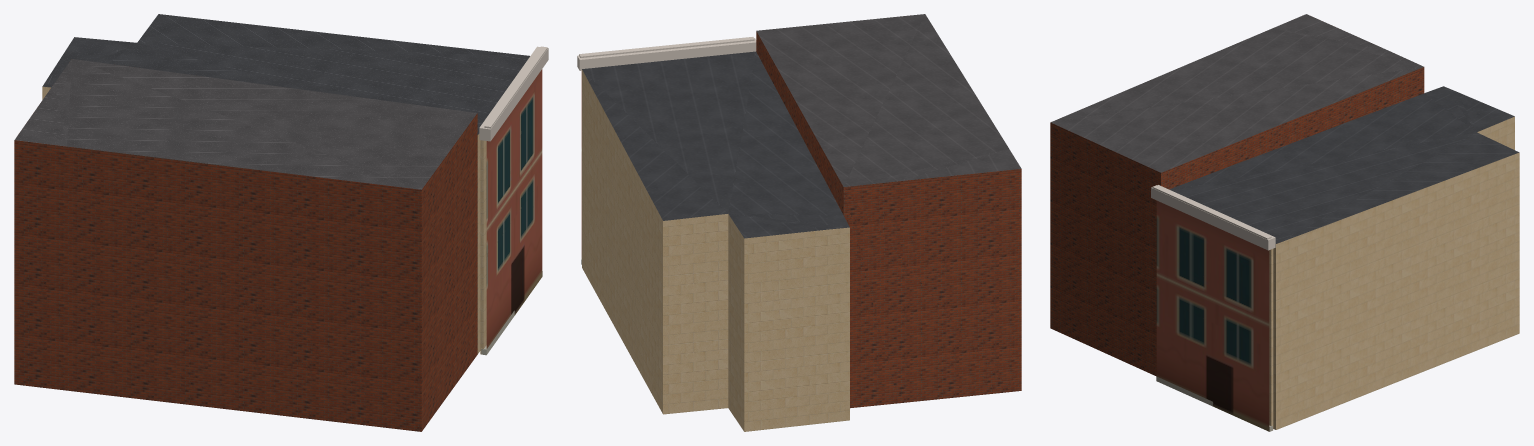
3 renders of one model, left to right at view 1: azimuth 30°, elevation 25°; view 2: azimuth 150°, elevation 25°; view 3: azimuth 270°, elevation 25°, orthographic. The views are drawn at different scales.
Parts seen in each view (by area): view 1: bldg_6008335705, bldg_6008335705_roof, bldg_6004687048_roof, bldg_6004687048_facade0, bldg_6004687048; view 2: bldg_6004687048, bldg_6008335705, bldg_6004687048_roof, bldg_6008335705_roof, bldg_6004687048_facade0; view 3: bldg_6004687048, bldg_6008335705, bldg_6008335705_roof, bldg_6004687048_roof, bldg_6004687048_facade0.
Boxes of the visible parts, box(x1,y1,x2,y2) form: bldg_6008335705: box(14, 113, 477, 431); bldg_6008335705_roof: box(14, 59, 477, 189); bldg_6004687048_roof: box(42, 14, 529, 134); bldg_6004687048_facade0: box(479, 46, 548, 355); bldg_6004687048: box(42, 86, 480, 353); bldg_6004687048: box(582, 70, 849, 431); bldg_6008335705: box(756, 31, 1021, 408); bldg_6004687048_roof: box(582, 51, 849, 238); bldg_6008335705_roof: box(756, 14, 1021, 186); bldg_6004687048_facade0: box(577, 37, 756, 264); bldg_6004687048: box(1273, 116, 1519, 429); bldg_6008335705: box(1050, 67, 1424, 376); bldg_6008335705_roof: box(1051, 14, 1423, 172); bldg_6004687048_roof: box(1169, 86, 1519, 243); bldg_6004687048_facade0: box(1151, 185, 1275, 431).
Bounding box in the file's own units: 16.92 × 7.72 × 15.8.
Materials: 7 (5 with a texture image).
